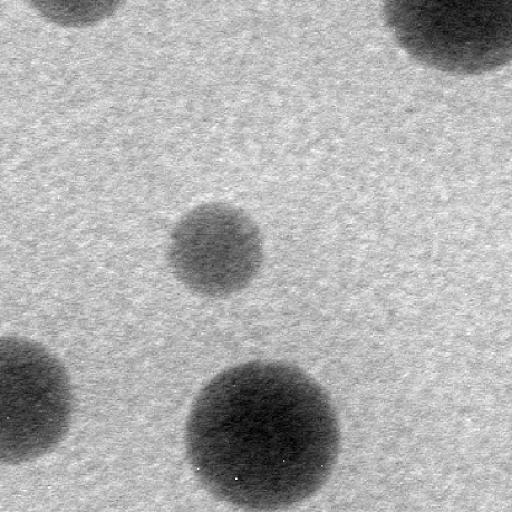Nanoparticles: (179, 358, 344, 510), (378, 1, 512, 78), (1, 332, 74, 471), (164, 202, 266, 301), (26, 0, 130, 36)
